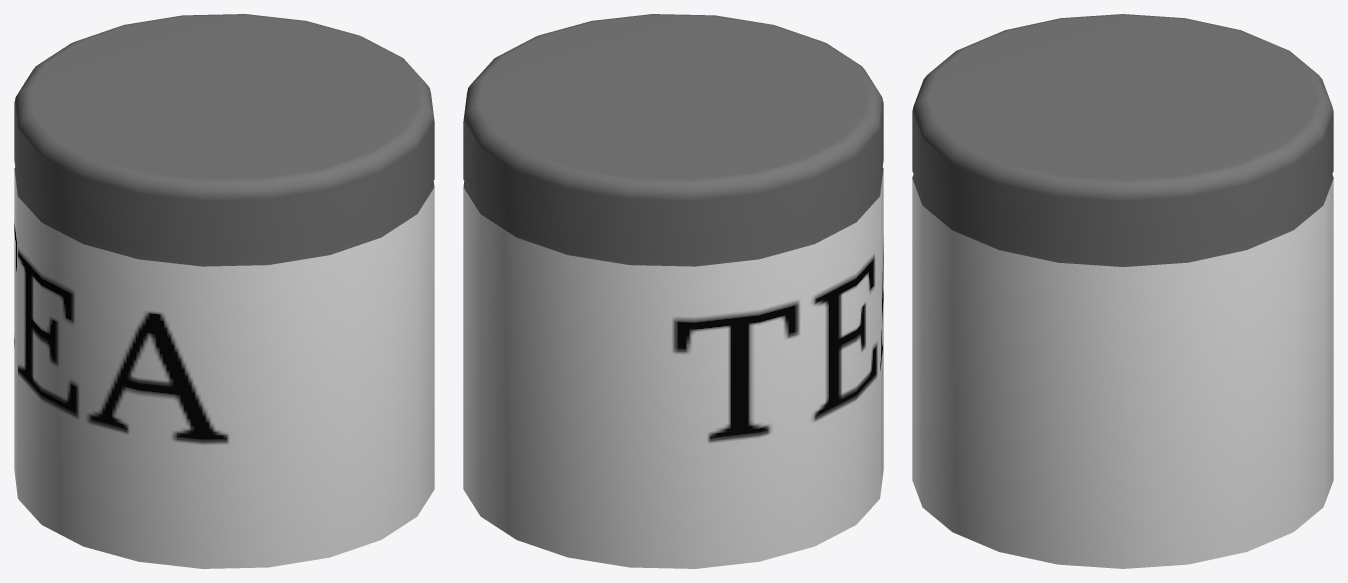
Rendered from geo_coffeeContainer.fbx.
The picture shows the model from 3 angles, left to right: view 1: azimuth 30°, elevation 25°; view 2: azimuth 150°, elevation 25°; view 3: azimuth 270°, elevation 25°; orthographic projection.
Parts seen in each view (by area): view 1: geo_coffeeContainer; view 2: geo_coffeeContainer; view 3: geo_coffeeContainer.
Boxes of the visible parts, x1,y1,x2,y2 form: geo_coffeeContainer: (14, 14, 434, 568); geo_coffeeContainer: (463, 14, 883, 568); geo_coffeeContainer: (912, 14, 1333, 568).
Size of the model in its own units: 0.2269 by 0.2269 by 0.2269.
Materials: 1 (1 with a texture image).
